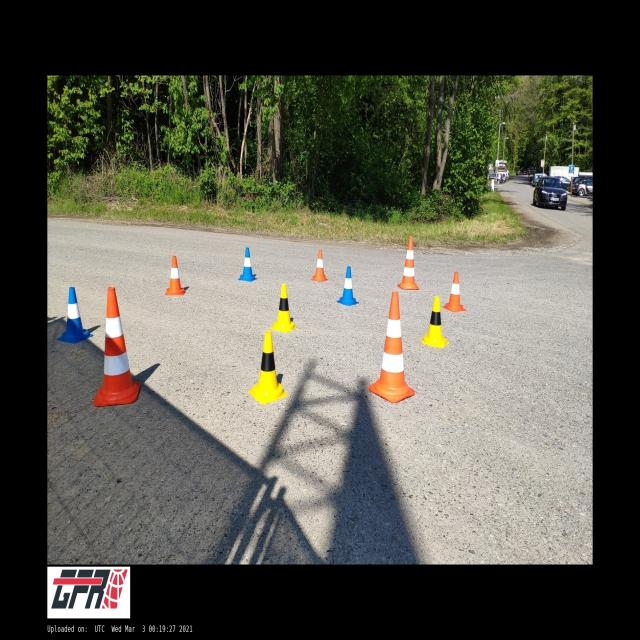blue_cone: (57, 287, 93, 343), (338, 266, 358, 306), (238, 247, 257, 282)
large_orange_cone: (93, 286, 141, 406), (369, 292, 416, 402), (398, 236, 420, 290)
orange_cone: (443, 272, 466, 312), (166, 256, 186, 296), (311, 250, 327, 280)
yellow_cone: (248, 332, 288, 405), (421, 296, 449, 348), (270, 284, 297, 332)
